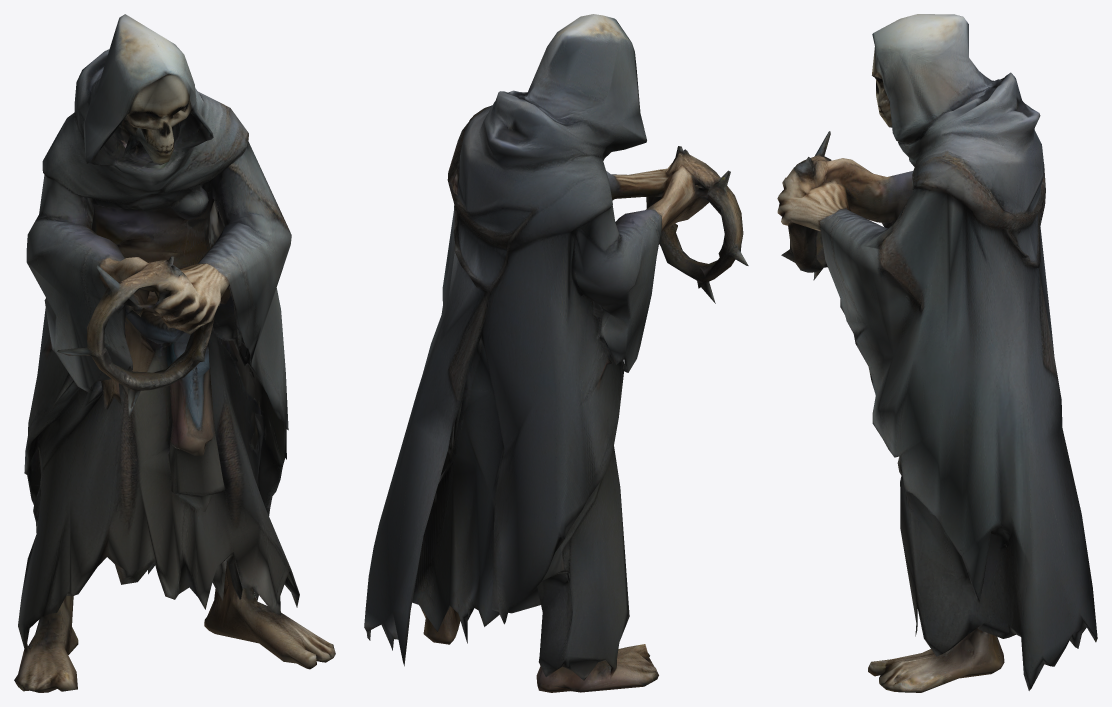
File: lich.glb
3 renders of one model, left to right at view 1: azimuth 30°, elevation 25°; view 2: azimuth 150°, elevation 25°; view 3: azimuth 270°, elevation 25°, orthographic. The views are drawn at different scales.
Size of the model in its own units: 0.9819 by 2 by 0.9674.
Materials: 1 (1 with a texture image).
